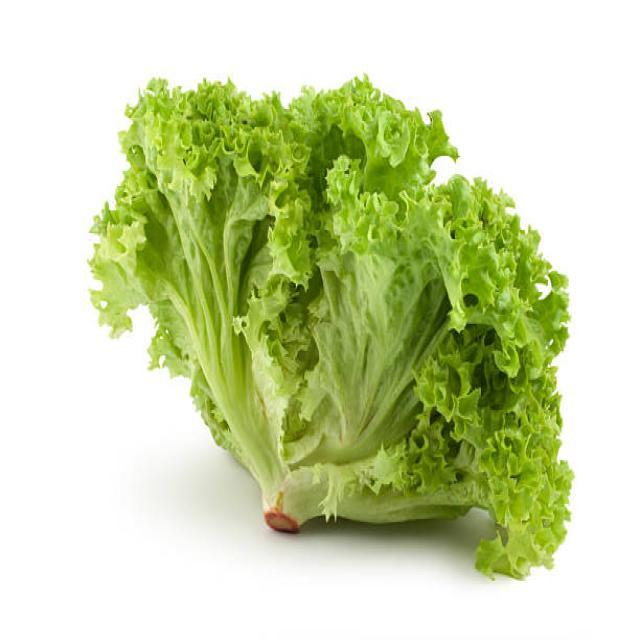Lettuce-Ready-to-Harvest: (87, 77, 574, 582)
